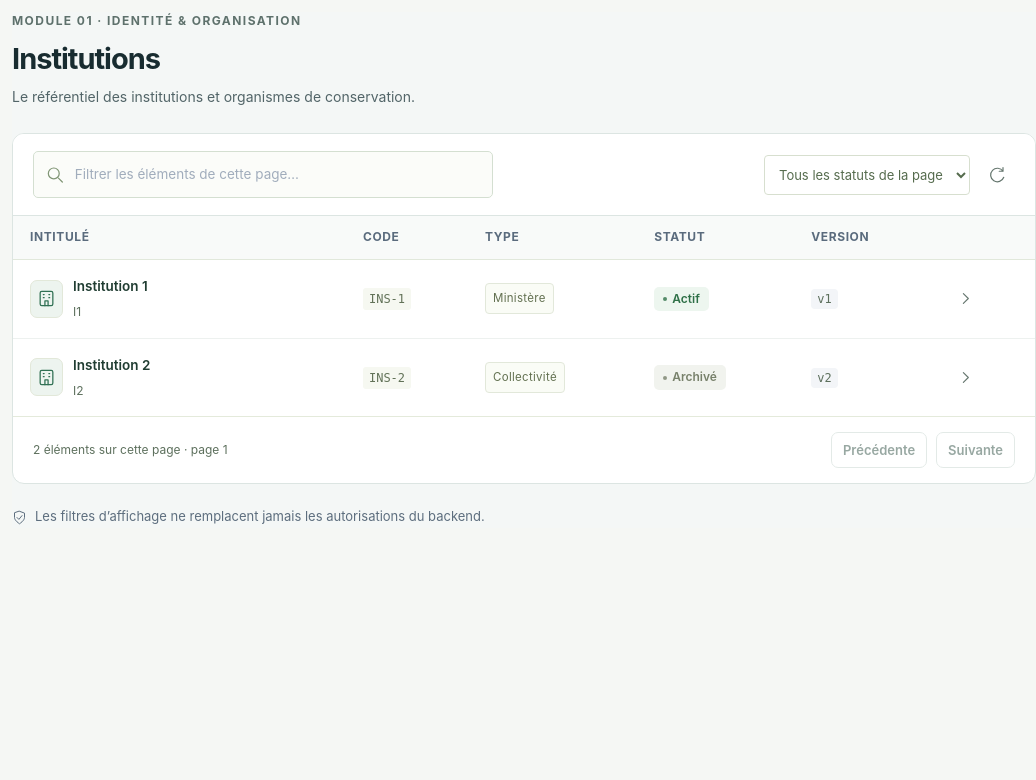
le filtre de texte et le filtre de statut ne portent que sur la page chargée, et l’écran le dit quand rien ne correspond
expect the text "Institution 1" is shown: met, box x1=73 y1=276 x2=148 y2=297
Type "ins-2" into the field named "Filtrer Institutions" at x=277, y=175, box x1=75 y1=152 x2=480 y2=197
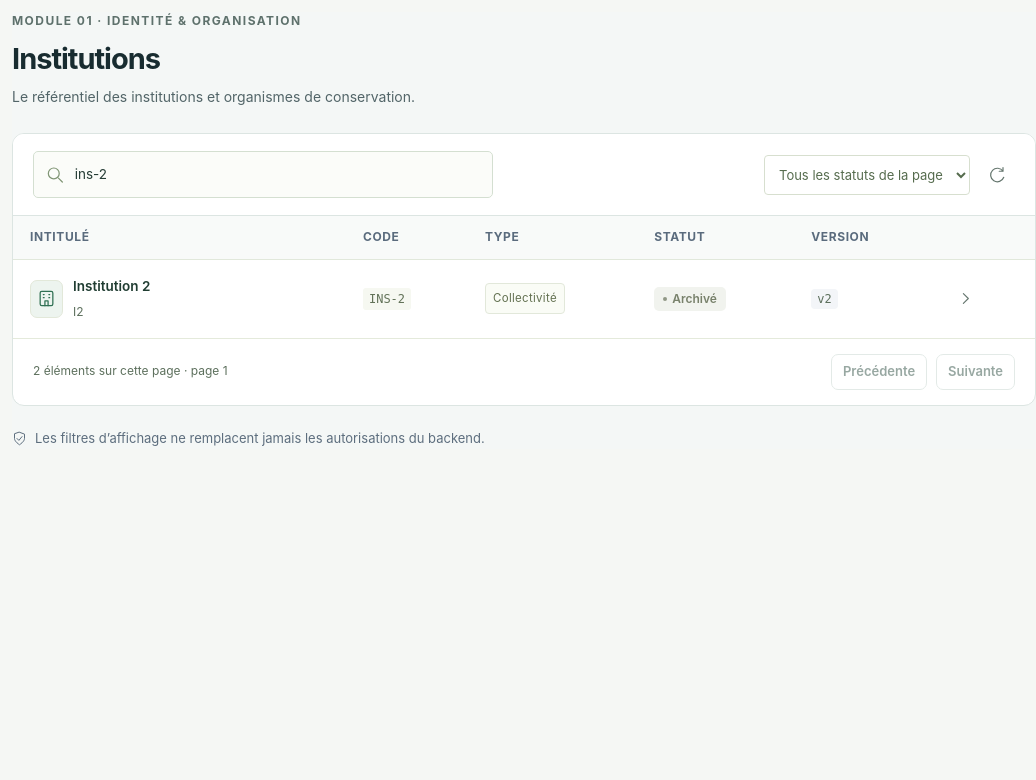
expect the text "Institution 2" is shown: met, box x1=73 y1=276 x2=150 y2=297
expect the button "Institution 1" is gone: met
Select "Actifs" in the dropdown named "Statut sur la page" at x=867, y=175, box x1=764 y1=155 x2=970 y2=195
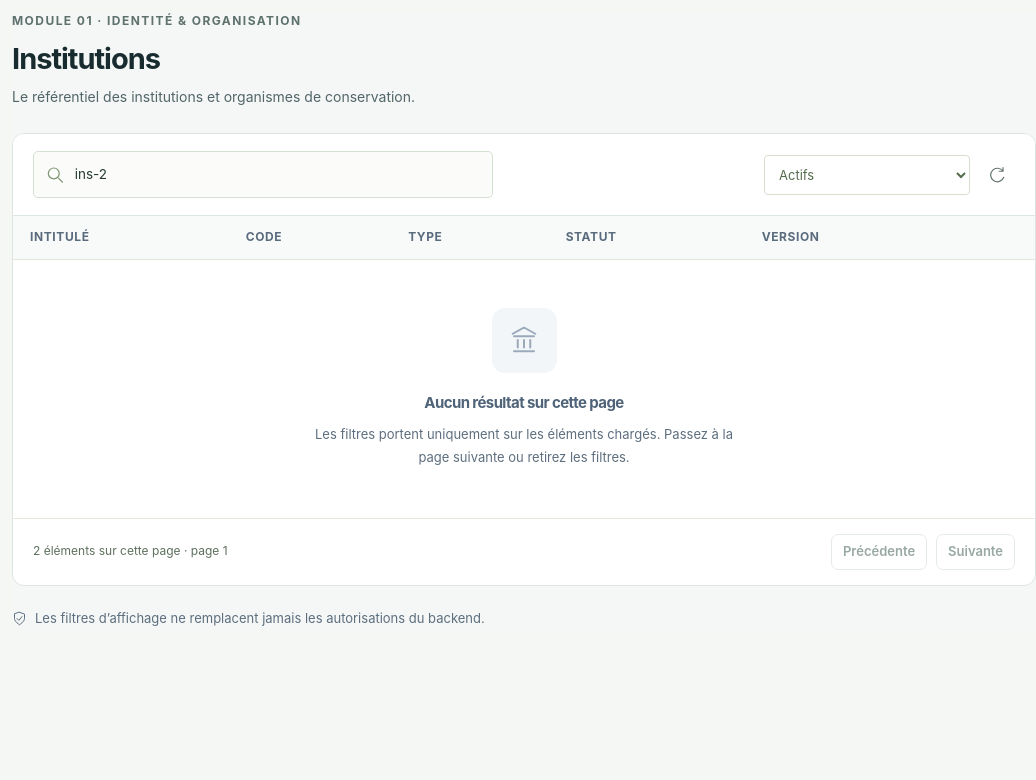
expect the button "Institution 2" is gone: met
expect the heading "Aucun résultat sur cette page" is shown: met, box x1=424 y1=393 x2=624 y2=412
expect the text "Les filtres portent uniquement sur les éléments chargés" is shown: met, box x1=315 y1=426 x2=733 y2=465
